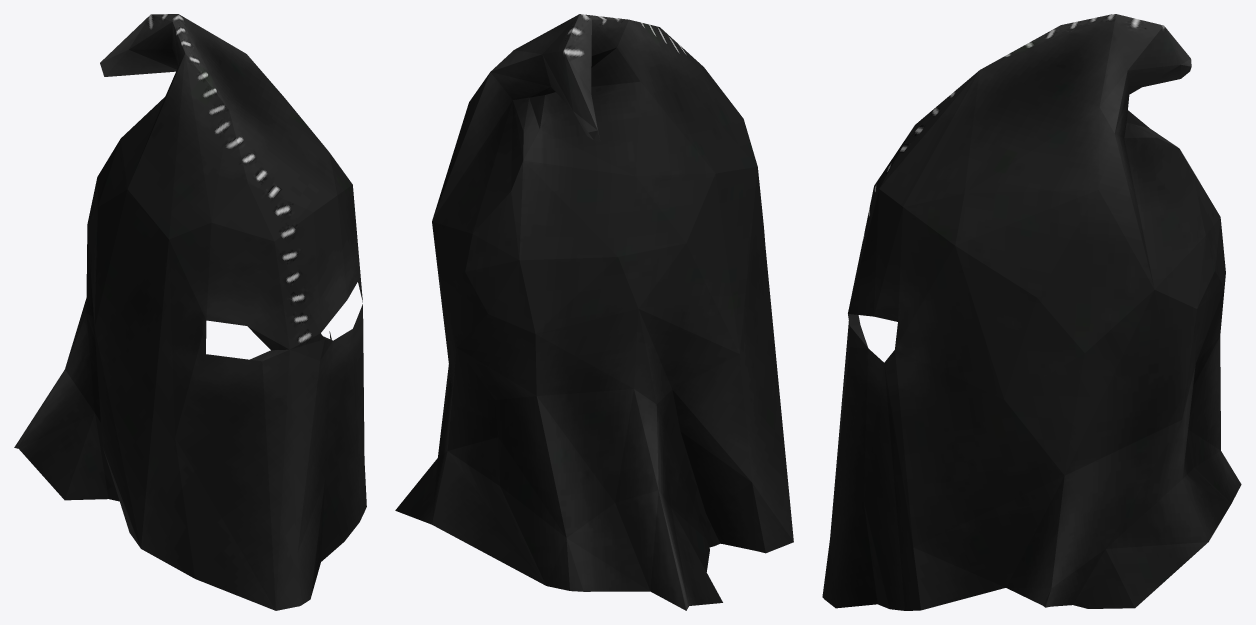
File: KAT.glb
The picture shows the model from 3 angles, left to right: view 1: azimuth 30°, elevation 25°; view 2: azimuth 150°, elevation 25°; view 3: azimuth 270°, elevation 25°; orthographic projection. The views are drawn at different scales.
Parts seen in each view (by area): view 1: KAT; view 2: KAT; view 3: KAT.
Part boxes in pixels (left/top/right/bottom): KAT: left=14, top=14, right=366, bottom=610; KAT: left=395, top=14, right=793, bottom=610; KAT: left=822, top=14, right=1241, bottom=610.
Bounding box in the file's own units: 0.3006 × 0.5276 × 0.3412.
1 material, 1 textured.
